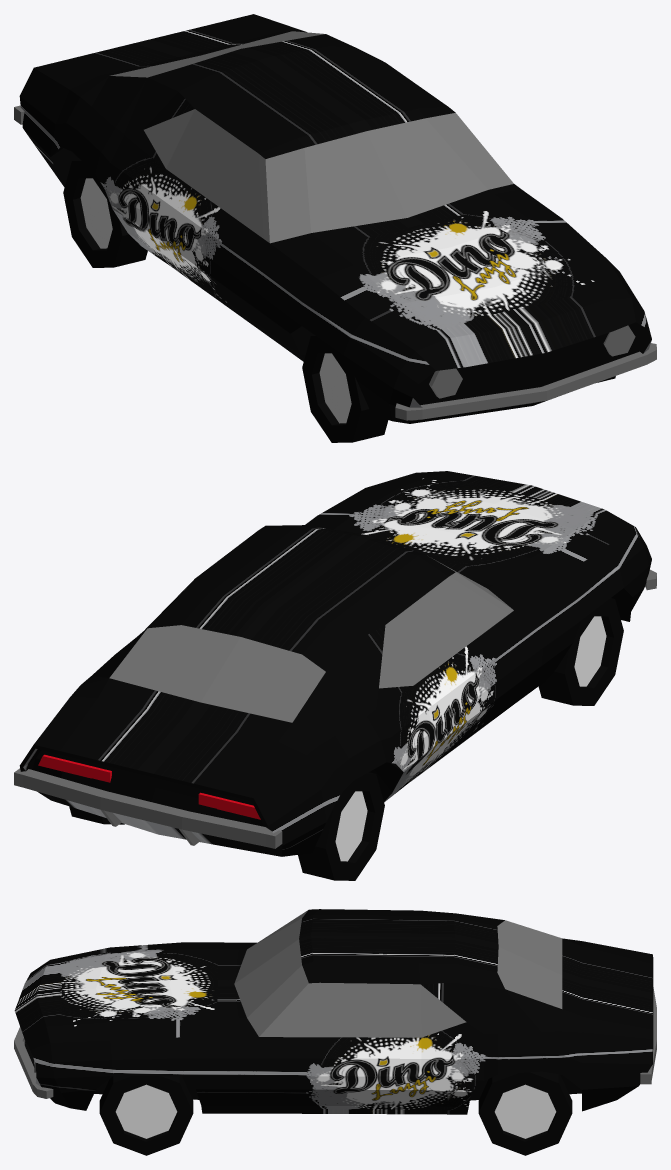
Rendered from car_new.glb.
3 views of the same model, one above another, from view 1: azimuth 30°, elevation 25°; view 2: azimuth 150°, elevation 25°; view 3: azimuth 270°, elevation 25° (orthographic). The views are drawn at different scales.
Visible parts, largest first — view 1: Body; view 2: Body; view 3: Body.
Part boxes in pixels (x1,y1,x2,y2): Body: [14, 14, 656, 442]; Body: [14, 471, 656, 880]; Body: [14, 909, 656, 1155].
Size of the model in its own units: 1.31 by 0.9189 by 3.16.
Materials: 6 (1 with a texture image).
